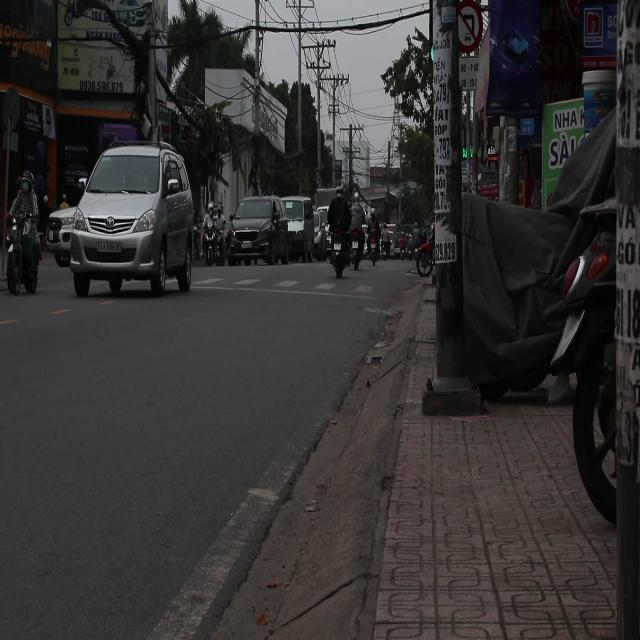car: (65, 141, 197, 298), (222, 197, 288, 265), (277, 195, 314, 262), (45, 202, 80, 264), (476, 174, 498, 200)
motorbike: (2, 174, 44, 294), (202, 208, 225, 263), (348, 226, 366, 270), (311, 222, 329, 262), (414, 243, 433, 278), (367, 221, 382, 265)
